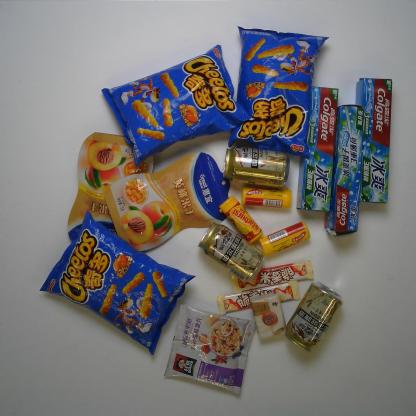Alcohol: (280, 278, 346, 355), (195, 219, 270, 285), (219, 144, 292, 191)
Candy: (216, 194, 264, 245), (257, 219, 314, 258), (238, 182, 295, 210)
Chocolate: (230, 258, 318, 298), (213, 280, 304, 318)
Dried Fruit: (103, 150, 234, 254), (64, 128, 156, 254)
Instant Drink: (160, 301, 259, 397)
Personal Hygiene: (294, 79, 340, 216), (322, 102, 366, 242), (354, 73, 396, 209)
Puffed Food: (36, 207, 200, 358), (96, 41, 258, 171), (226, 18, 331, 163)
Tissue: (246, 289, 290, 345)
